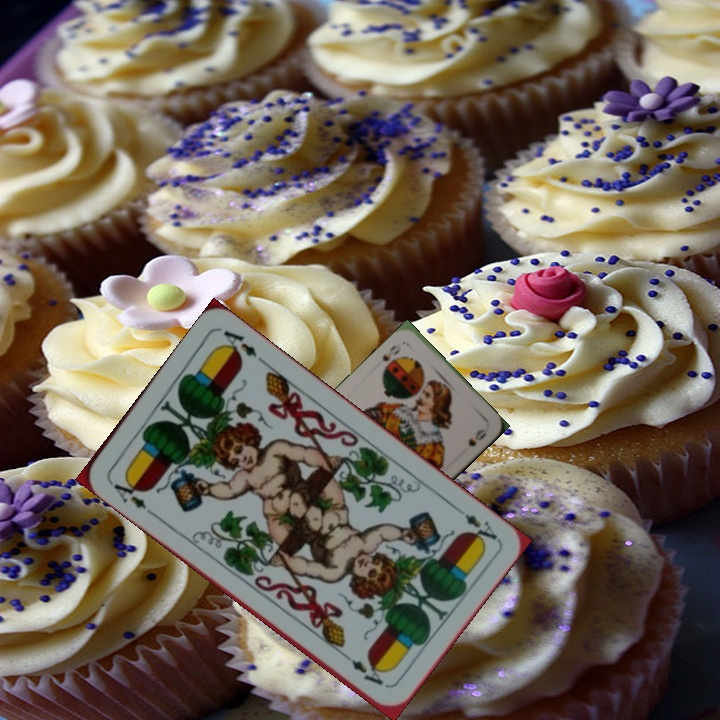EA: (450, 502, 500, 546), (104, 473, 149, 512)
SO: (377, 341, 403, 364)
